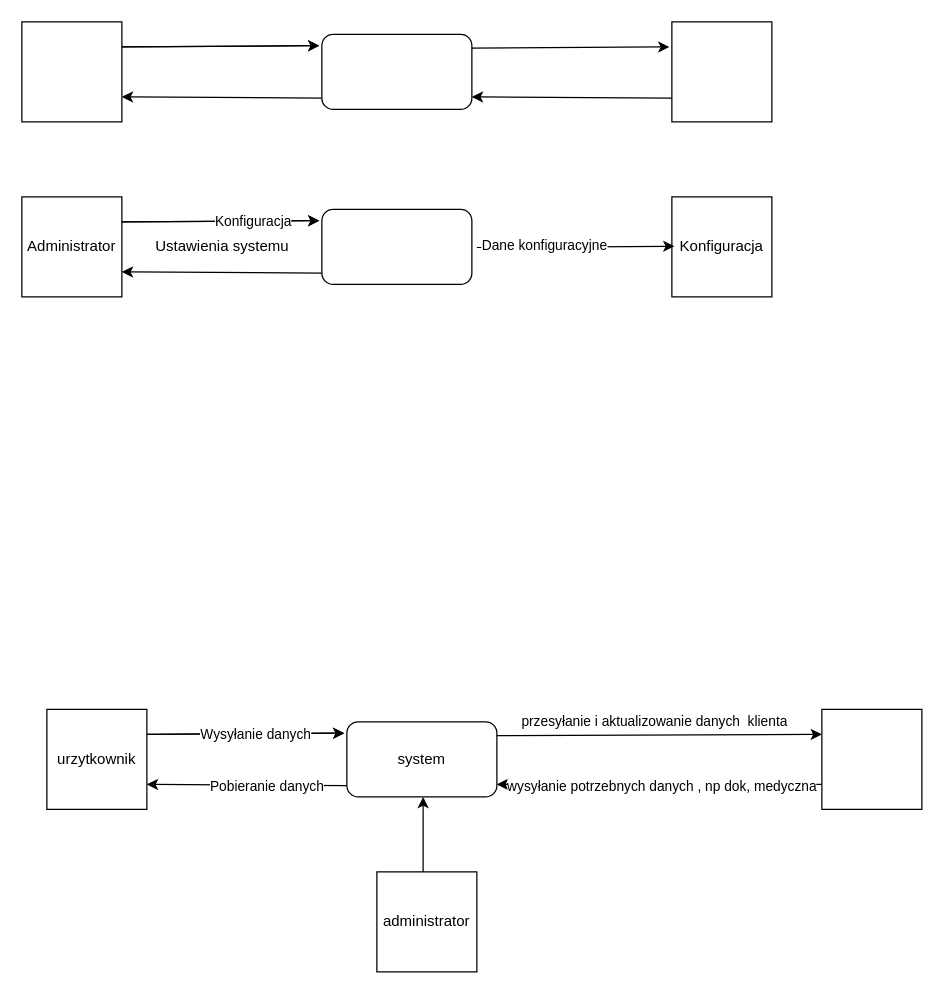
Image size: 944x994. Some labels were removed from this diagram. The shapes that lost their labels are listed below. From the top down, each one's centre as x and y in pixels, then its label:
At point 396,246: "Zarządzanie systemem".
At point 871,758: "baza danych".
